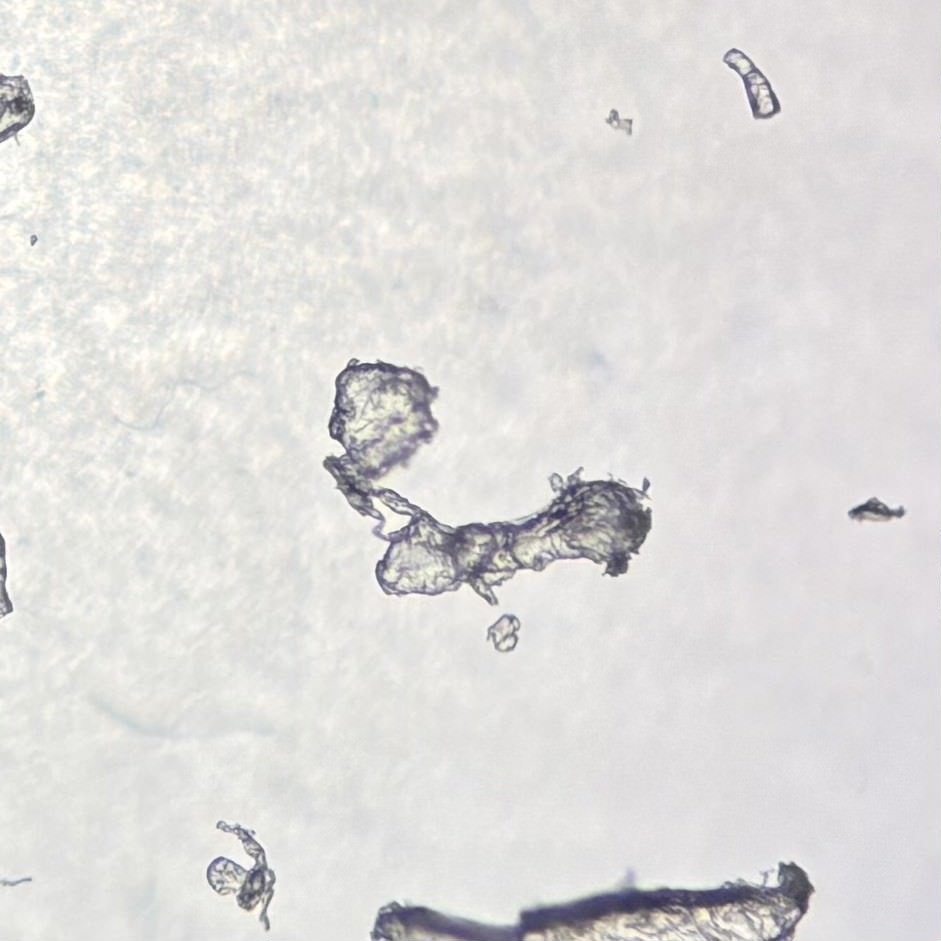microplastic: (320, 358, 654, 607), (369, 860, 817, 941), (205, 819, 280, 933), (721, 46, 783, 120), (1, 75, 38, 146), (843, 497, 910, 525), (1, 523, 17, 621), (486, 610, 521, 653), (603, 108, 634, 138), (1, 868, 37, 890), (29, 233, 37, 248)
